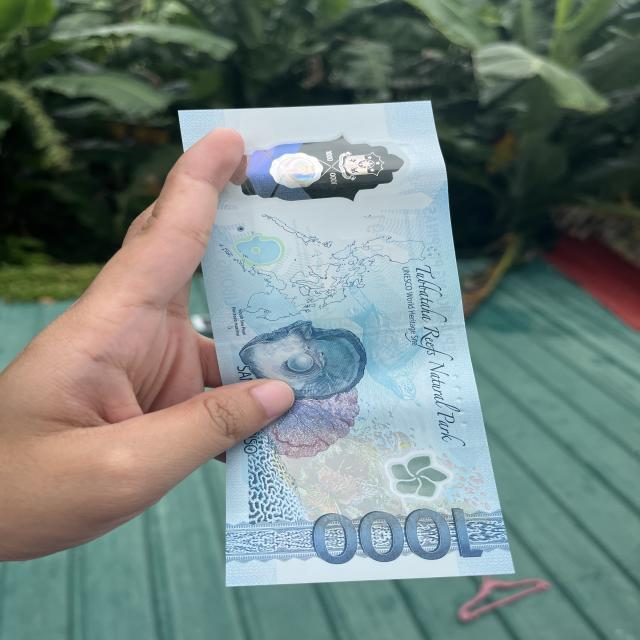clear_window: (183, 130, 451, 208)
sampaguita: (384, 450, 448, 500)
security_thread: (211, 306, 464, 344)
